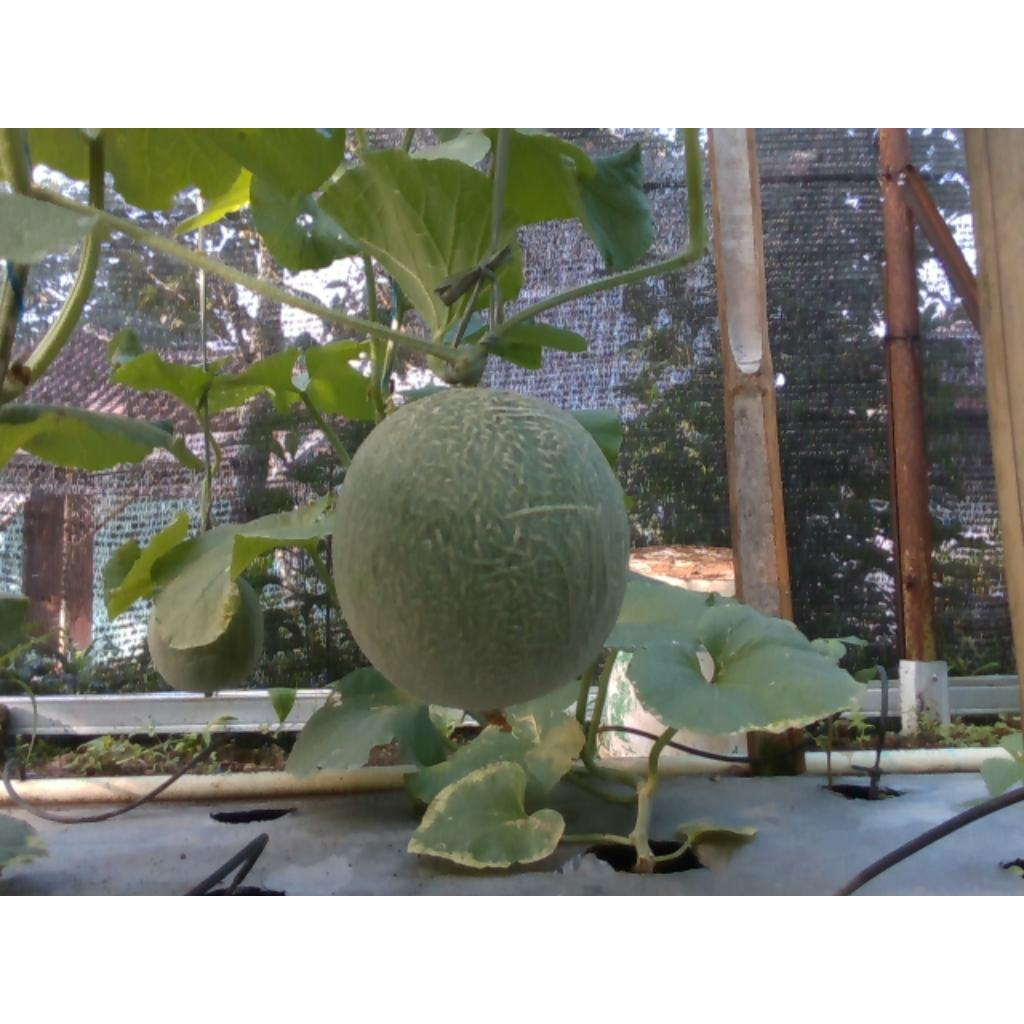melon: (334, 389, 630, 710)
